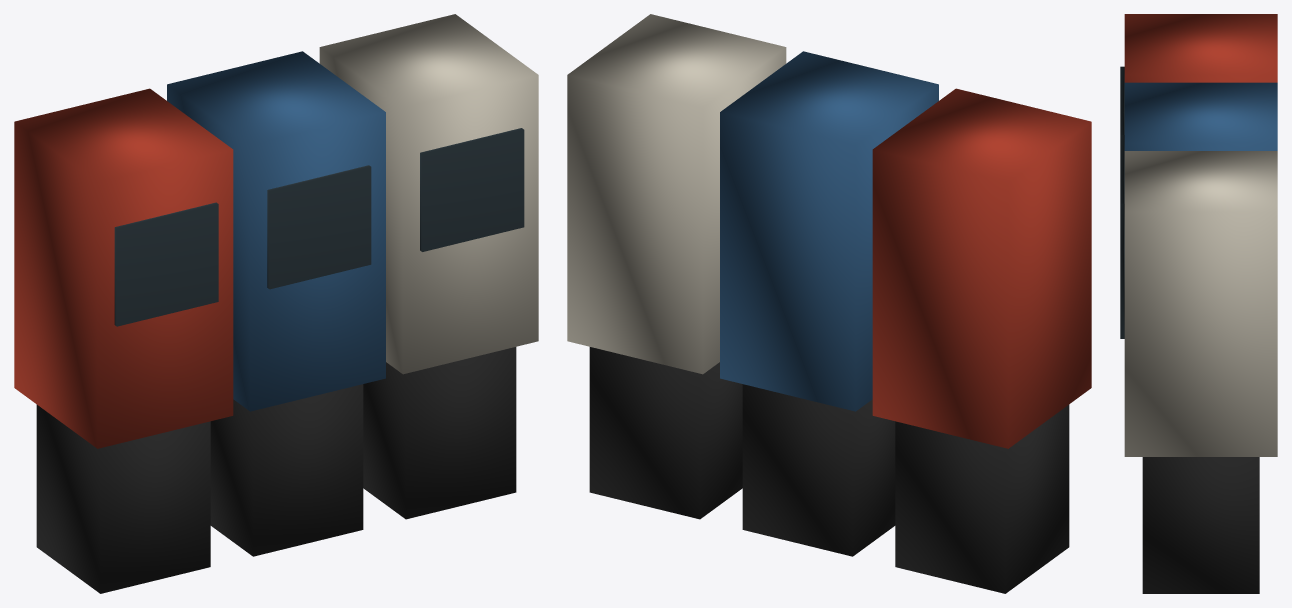
Rendered from street_lp_newsboxes.glb.
3 views of the same model, side by side, from view 1: azimuth 30°, elevation 25°; view 2: azimuth 150°, elevation 25°; view 3: azimuth 270°, elevation 25° (orthographic). The views are drawn at different scales.
Parts seen in each view (by area): view 1: street_lp_newsboxes; view 2: street_lp_newsboxes; view 3: street_lp_newsboxes.
Part boxes in pixels (<box>): street_lp_newsboxes: <box>14,14,538,593</box>; street_lp_newsboxes: <box>567,14,1091,593</box>; street_lp_newsboxes: <box>1120,14,1277,593</box>.
Size of the model in its own units: 1.04 by 0.95 by 0.35.
